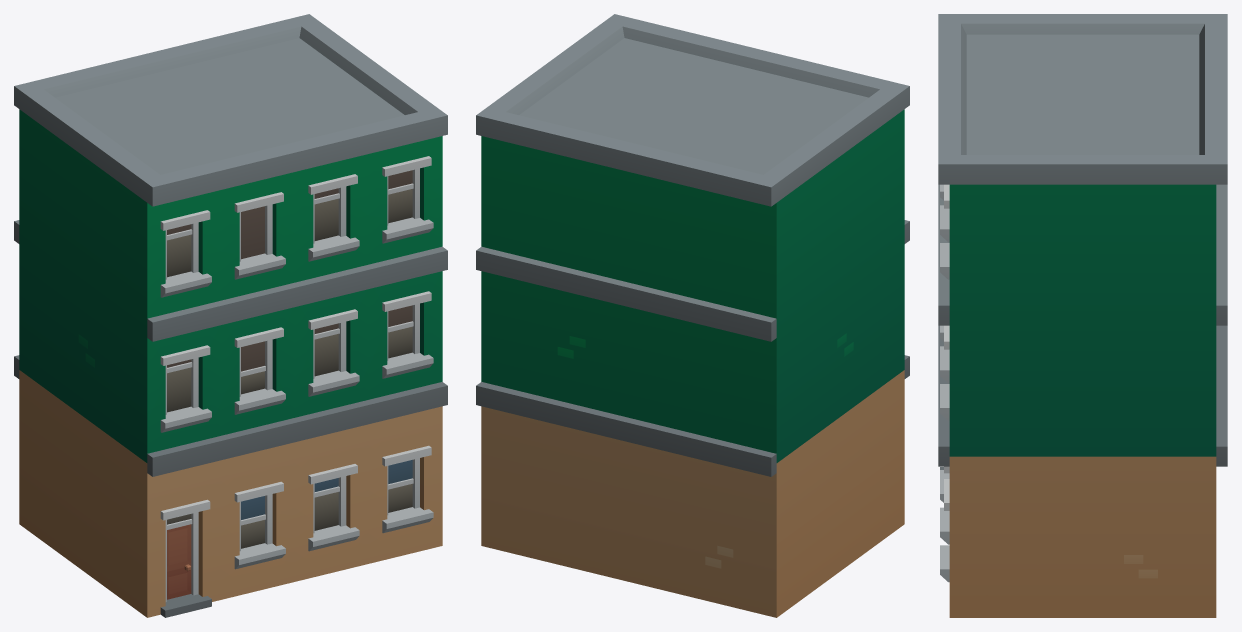
The model's file is city-building-d.glb.
3 renders of one model, left to right at view 1: azimuth 30°, elevation 25°; view 2: azimuth 150°, elevation 25°; view 3: azimuth 270°, elevation 25°, orthographic. The views are drawn at different scales.
Visible parts, largest first — view 1: building_D_withoutBase; view 2: building_D_withoutBase; view 3: building_D_withoutBase.
Boxes of the visible parts, bbox=[...] form: building_D_withoutBase: bbox=[14, 14, 447, 617]; building_D_withoutBase: bbox=[476, 14, 909, 617]; building_D_withoutBase: bbox=[938, 14, 1227, 617].
Bounding box in the file's own units: 1.61 × 2.25 × 1.3.
